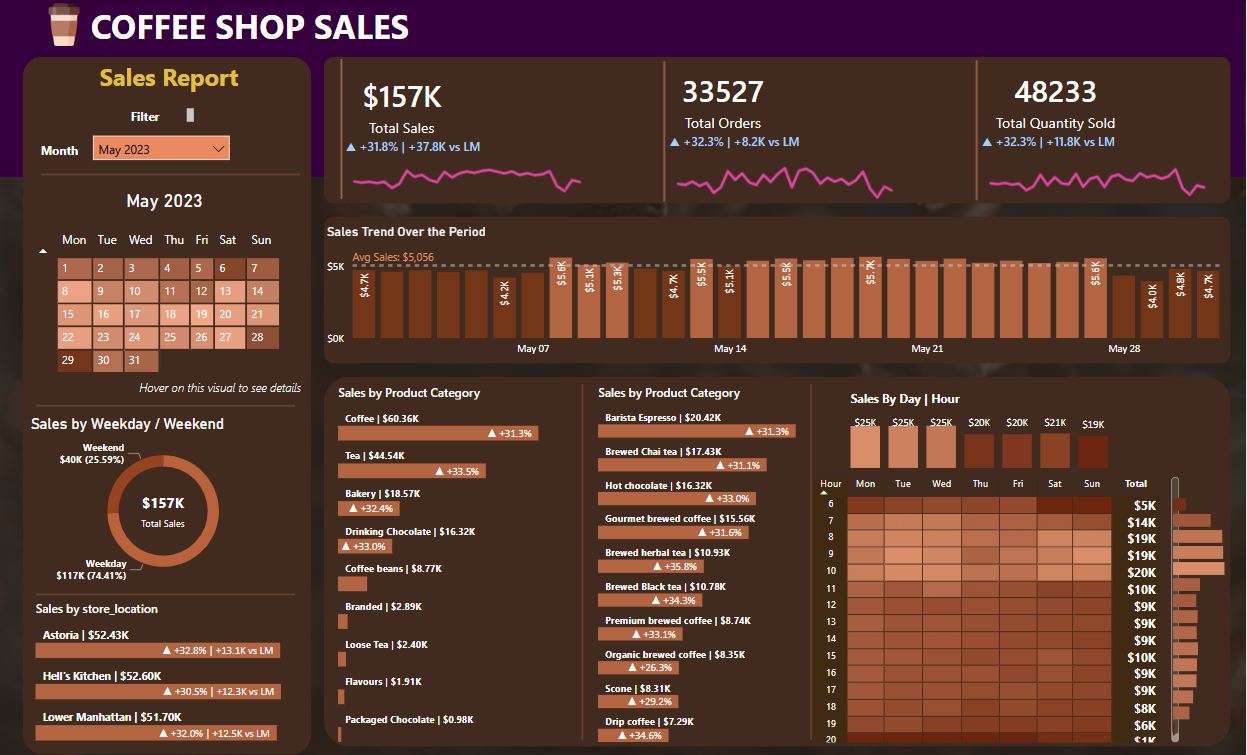

The page's visual inventory and layout, read from the dashboard file:
{"tool":"powerbi","page":{"name":"Page 1","canvas":[1400,850],"ordinal":0},"visuals":[{"type":"shape","box":[0,0,1399.7,200.2],"z":0},{"type":"group","id":"g1","title":"Group 1","box":[747.7,35.5,269.8,195.1],"z":0,"group":"g4"},{"type":"pivotTable","fields":{"Rows":["Date Table.Week Number"],"Columns":["Date Table.Day Name"],"Values":["Min(Date Table.Day Number)"]},"box":[34.3,252.3,304.3,189.5],"z":0,"group":"g6"},{"type":"shape","box":[24.7,65.3,324.9,784.7],"z":1000},{"type":"shape","box":[741.2,70.3,12.3,157.4],"z":1000,"group":"g4"},{"type":"card","fields":{"Values":["Transactions.Foot Note"]},"box":[144.6,421.4,206,36.3],"z":1000,"group":"g6"},{"type":"shape","box":[364.1,65.3,1019.7,165.4],"z":2000},{"type":"textbox","box":[97.2,0,397.4,78.3],"z":3000},{"type":"card","fields":{"Values":["Transactions.Total Orders"]},"box":[747.7,35.5,119.7,157.5],"z":4000,"group":"g1"},{"type":"card","fields":{"Values":["Transactions.Total Quantity Sold"]},"box":[1098,35.5,165.4,157.4],"z":4000,"group":"g5"},{"type":"card","fields":{"Values":["Transactions.Total Sales"]},"box":[383.7,41.3,125.6,157.5],"z":4000,"group":"g3"},{"type":"slicer","fields":{"Values":["Date Table.Month"]},"box":[99.4,149.4,168.3,36.3],"z":4000},{"type":"group","id":"g2","title":"Group 2","box":[377.9,41.3,289.4,195.1],"z":5000},{"type":"group","id":"g3","title":"Group 1","box":[383.7,41.3,283.2,195.1],"z":5000,"group":"g2"},{"type":"group","id":"g4","title":"Group 3","box":[741.2,35.5,276.3,195.1],"z":6000},{"type":"lineChart","fields":{"Y":["Transactions.Total Orders"],"Category":["Date Table.Date.Variation.Date Hierarchy.Year","Date Table.Date.Variation.Date Hierarchy.Quarter","Date Table.Date.Variation.Date Hierarchy.Month","Date Table.Date.Variation.Date Hierarchy.Day"]},"box":[747.7,151.2,269.8,79.4],"z":6000,"group":"g1"},{"type":"lineChart","fields":{"Y":["Transactions.Total Quantity Sold"],"Category":["Date Table.Date.Variation.Date Hierarchy.Year","Date Table.Date.Variation.Date Hierarchy.Quarter","Date Table.Date.Variation.Date Hierarchy.Month","Date Table.Date.Variation.Date Hierarchy.Day"]},"box":[1098,151.2,269.8,79.4],"z":6000,"group":"g5"},{"type":"lineChart","fields":{"Y":["Transactions.Total Sales"],"Category":["Date Table.Date.Variation.Date Hierarchy.Year","Date Table.Date.Variation.Date Hierarchy.Quarter","Date Table.Date.Variation.Date Hierarchy.Month","Date Table.Date.Variation.Date Hierarchy.Day"]},"box":[383.7,157,283.2,79.4],"z":6000,"group":"g3"},{"type":"group","id":"g5","title":"Group 4","box":[1091.5,35.5,276.3,195.1],"z":7000},{"type":"shape","box":[377.9,68.2,11.6,157.4],"z":7001,"group":"g2"},{"type":"shape","box":[1091.5,68.9,12.3,157.4],"z":7003,"group":"g5"},{"type":"card","fields":{"Values":["Min(Date Table.Month Year)"]},"box":[101.4,207.8,167.9,36.6],"z":8000},{"type":"group","id":"g6","title":"Group 5","box":[34.3,252.3,316.1,205.6],"z":9000},{"type":"shape","box":[40.6,451.1,290.8,12.3],"z":10000},{"type":"shape","box":[46.4,190.7,290.8,12.3],"z":11000},{"type":"donutChart","title":"Sales by Weekday / Weekend","fields":{"Category":["Date Table.Weekday / Weekend"],"Y":["Transactions.Total Sales"]},"box":[29,468.5,308.2,195.1],"z":12000},{"type":"card","fields":{"Values":["Transactions.Total Sales"]},"box":[123.3,548.3,119.7,53.7],"z":13000},{"type":"shape","box":[40.6,663.6,290.8,12.3],"z":14000},{"type":"clusteredBarChart","title":"Sales by store_location","fields":{"Category":["Transactions.store_location"],"Y":["Transactions.Placeholder","Transactions.Total Sales"]},"box":[35.5,675.9,314.8,165.4],"z":15000},{"type":"shape","box":[364.1,244.4,1019.7,165.4],"z":16000},{"type":"columnChart","title":"Sales Trend Over the Period","fields":{"Category":["Transactions.transaction_date"],"Y":["Transactions.Total Sales"]},"box":[362.6,252.4,1019.7,157.4],"z":17000},{"type":"shape","box":[364.1,425,1019.7,416.3],"z":18000},{"type":"clusteredBarChart","title":"Sales by Product Category","fields":{"Y":["Transactions.Placeholder","Transactions.Total Sales"],"Category":["Transactions.product_category"]},"box":[375.7,433,267.6,408.3],"z":19000},{"type":"shape","box":[648.4,433,13.8,400.3],"z":20000},{"type":"clusteredBarChart","title":"Sales by Product Category","fields":{"Y":["Transactions.Placeholder","Transactions.Total Sales"],"Category":["Transactions.product_type"]},"box":[667.2,433,267.6,408.3],"z":21000},{"type":"shape","box":[905.1,433,13.8,400.3],"z":22000},{"type":"pivotTable","fields":{"Rows":["Transactions.Hour"],"Columns":["Date Table.Day Name"],"Values":["Transactions.Total Sales"]},"box":[912.4,533.1,418.5,308.2],"z":23000},{"type":"barChart","fields":{"Category":["Transactions.Hour"],"Y":["Transactions.Total Sales"]},"box":[1313.4,548.3,68.9,285],"z":24000},{"type":"columnChart","title":"Sales By Day | Hour","fields":{"Category":["Date Table.Day Name"],"Y":["Transactions.Total Sales"]},"box":[950.8,439.5,300.3,93.6],"z":25000},{"type":"textbox","box":[40.6,156.7,63.8,29],"z":26000},{"type":"textbox","box":[141.4,117.5,81.2,29.7],"z":27000},{"type":"textbox","box":[106.6,65.3,190.7,49.3],"z":28000},{"type":"image","box":[40.6,0,63.1,58],"z":29000}]}

Visuals, with their boxes in screenshot pixels (x1, y1, x2, y2), scaled from the page's 1400x850 canvas onto the 1247x755 screenshot:
shape: BBox(0, 0, 1246, 178)
"Group 1" group: BBox(666, 32, 906, 205)
pivotTable - Date Table.Week Number x Date Table.Day Name: BBox(31, 224, 302, 392)
shape: BBox(22, 58, 311, 754)
shape: BBox(660, 62, 671, 202)
card - Transactions.Foot Note: BBox(129, 374, 312, 407)
shape: BBox(324, 58, 1233, 205)
textbox: BBox(87, 0, 441, 70)
card - Transactions.Total Orders: BBox(666, 32, 773, 171)
card - Transactions.Total Quantity Sold: BBox(978, 32, 1125, 171)
card - Transactions.Total Sales: BBox(342, 37, 454, 177)
slicer - Date Table.Month: BBox(89, 133, 238, 165)
"Group 2" group: BBox(337, 37, 594, 210)
"Group 1" group: BBox(342, 37, 594, 210)
"Group 3" group: BBox(660, 32, 906, 205)
lineChart - Transactions.Total Orders x Date Table.Date.Variation.Date Hierarchy.Year: BBox(666, 134, 906, 205)
lineChart - Transactions.Total Quantity Sold x Date Table.Date.Variation.Date Hierarchy.Year: BBox(978, 134, 1218, 205)
lineChart - Transactions.Total Sales x Date Table.Date.Variation.Date Hierarchy.Year: BBox(342, 139, 594, 210)
"Group 4" group: BBox(972, 32, 1218, 205)
shape: BBox(337, 61, 347, 200)
shape: BBox(972, 61, 983, 201)
card - Min(Date Table.Month Year): BBox(90, 185, 240, 217)
"Group 5" group: BBox(31, 224, 312, 407)
shape: BBox(36, 401, 295, 412)
shape: BBox(41, 169, 300, 180)
"Sales by Weekday / Weekend" donutChart: BBox(26, 416, 300, 589)
card - Transactions.Total Sales: BBox(110, 487, 216, 535)
shape: BBox(36, 589, 295, 600)
"Sales by store_location" clusteredBarChart: BBox(32, 600, 312, 747)
shape: BBox(324, 217, 1233, 364)
"Sales Trend Over the Period" columnChart: BBox(323, 224, 1231, 364)
shape: BBox(324, 378, 1233, 747)
"Sales by Product Category" clusteredBarChart: BBox(335, 385, 573, 747)
shape: BBox(578, 385, 590, 740)
"Sales by Product Category" clusteredBarChart: BBox(594, 385, 833, 747)
shape: BBox(806, 385, 818, 740)
pivotTable - Transactions.Hour x Date Table.Day Name: BBox(813, 474, 1185, 747)
barChart - Transactions.Hour x Transactions.Total Sales: BBox(1170, 487, 1231, 740)
"Sales By Day | Hour" columnChart: BBox(847, 390, 1114, 474)
textbox: BBox(36, 139, 93, 165)
textbox: BBox(126, 104, 198, 131)
textbox: BBox(95, 58, 265, 102)
image: BBox(36, 0, 92, 52)
